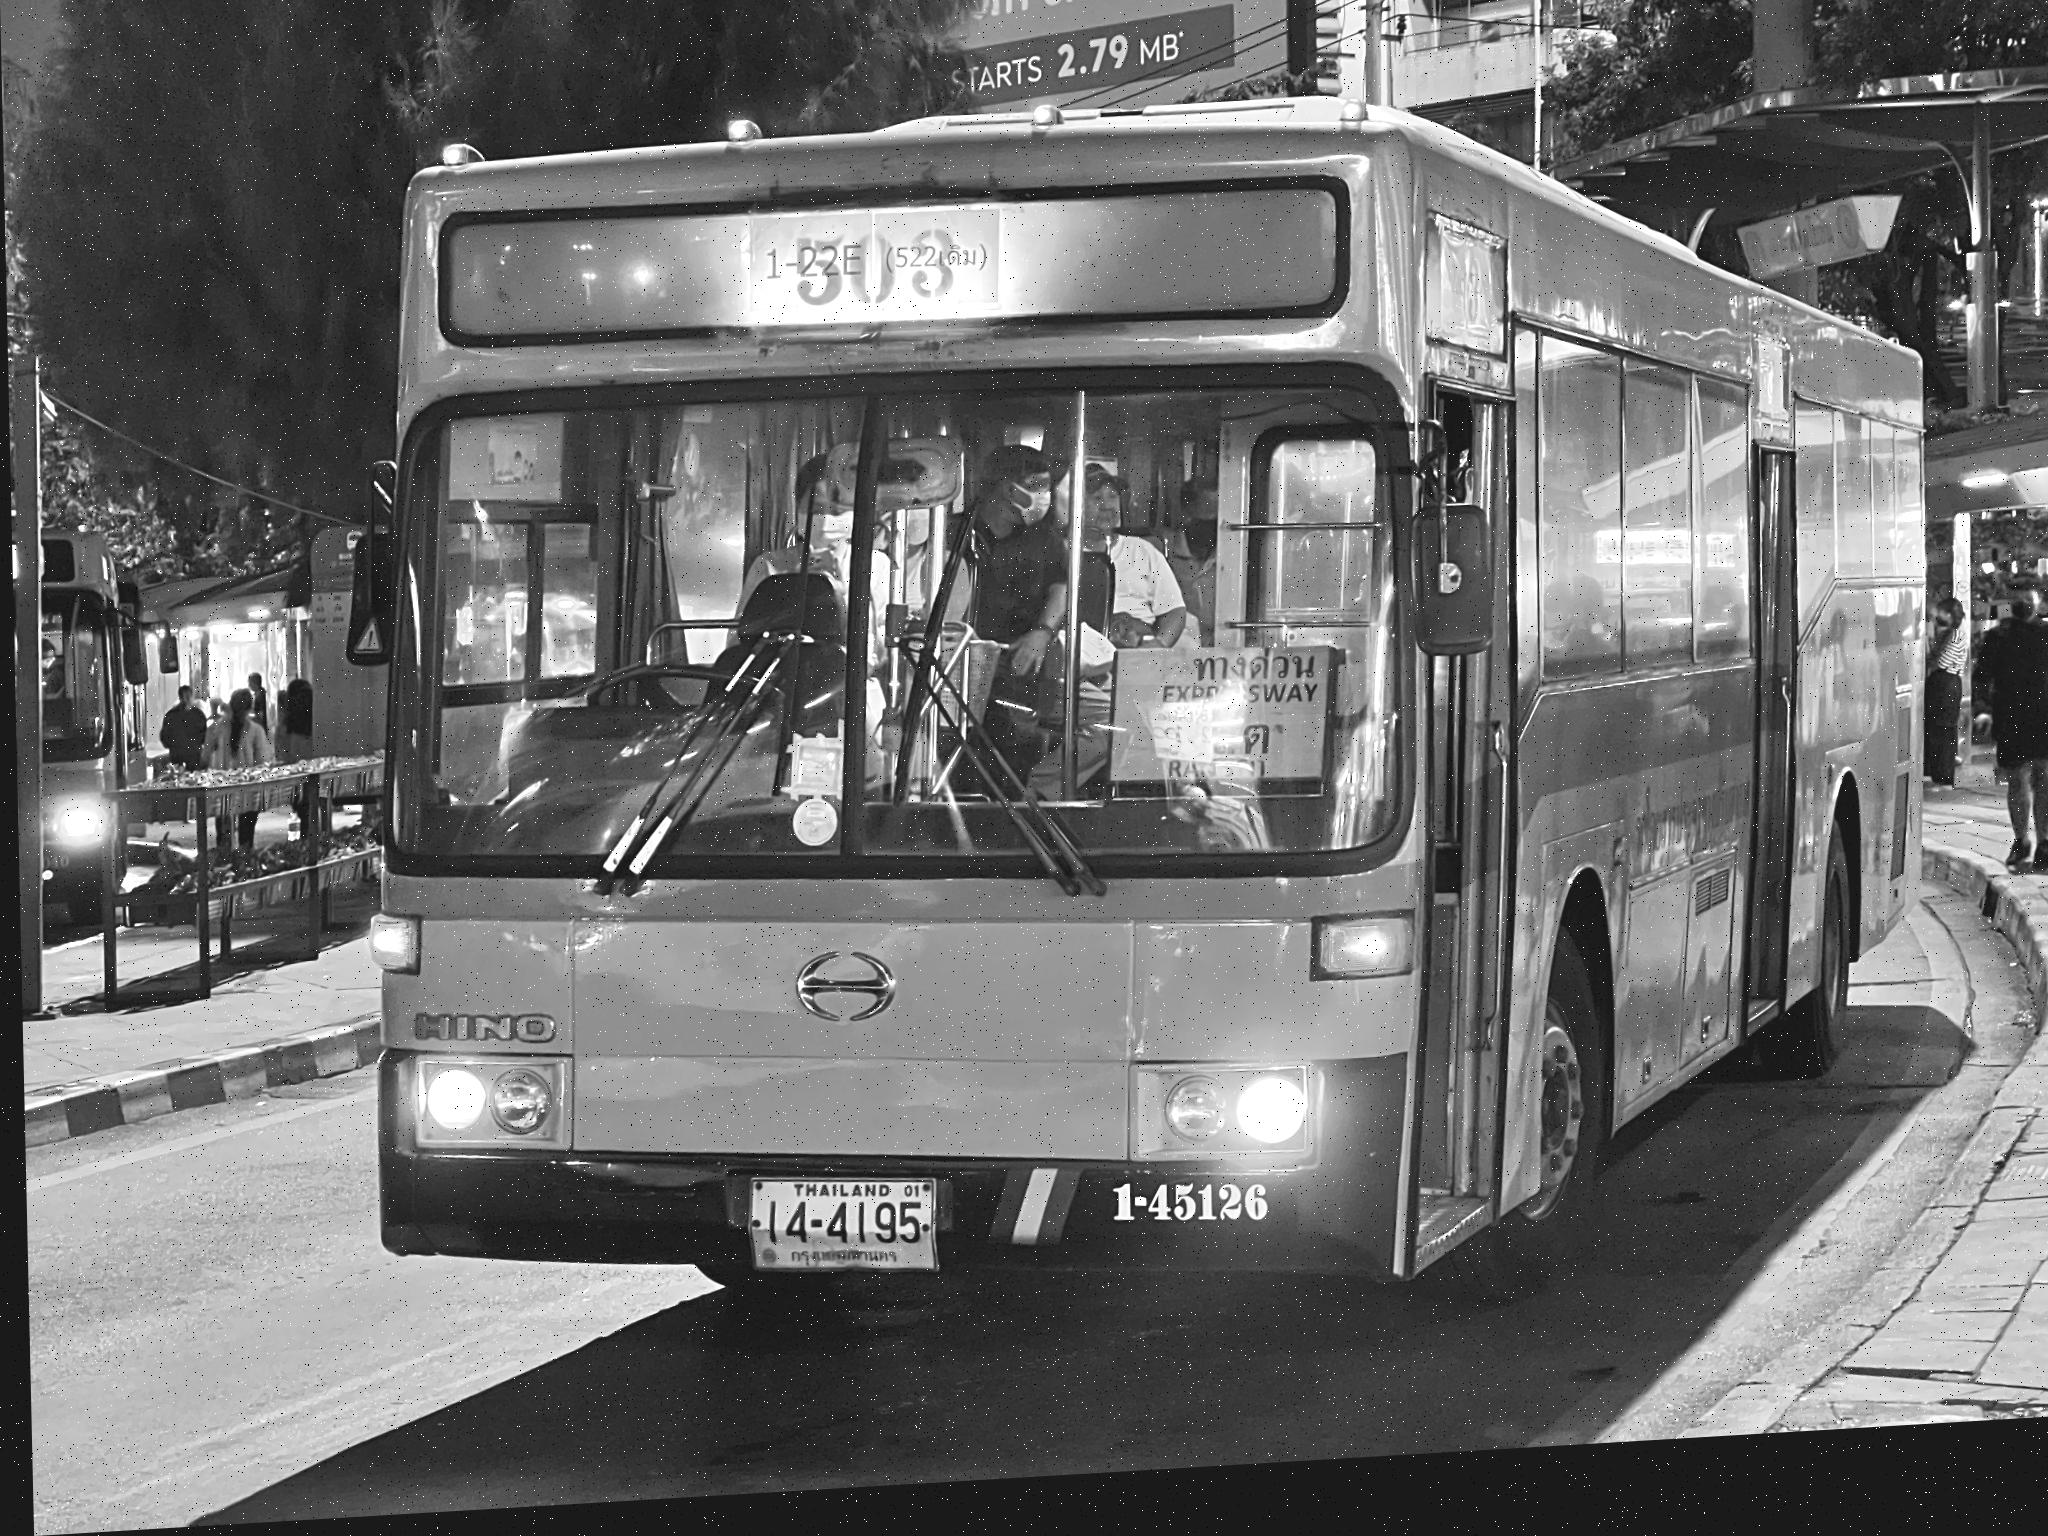BMTA-bus: (355, 124, 1929, 1312)
Bus Line Number: (747, 216, 1000, 334)
Bus Side Number: (1089, 1179, 1287, 1255)
Destination Sign: (1103, 639, 1342, 815)
